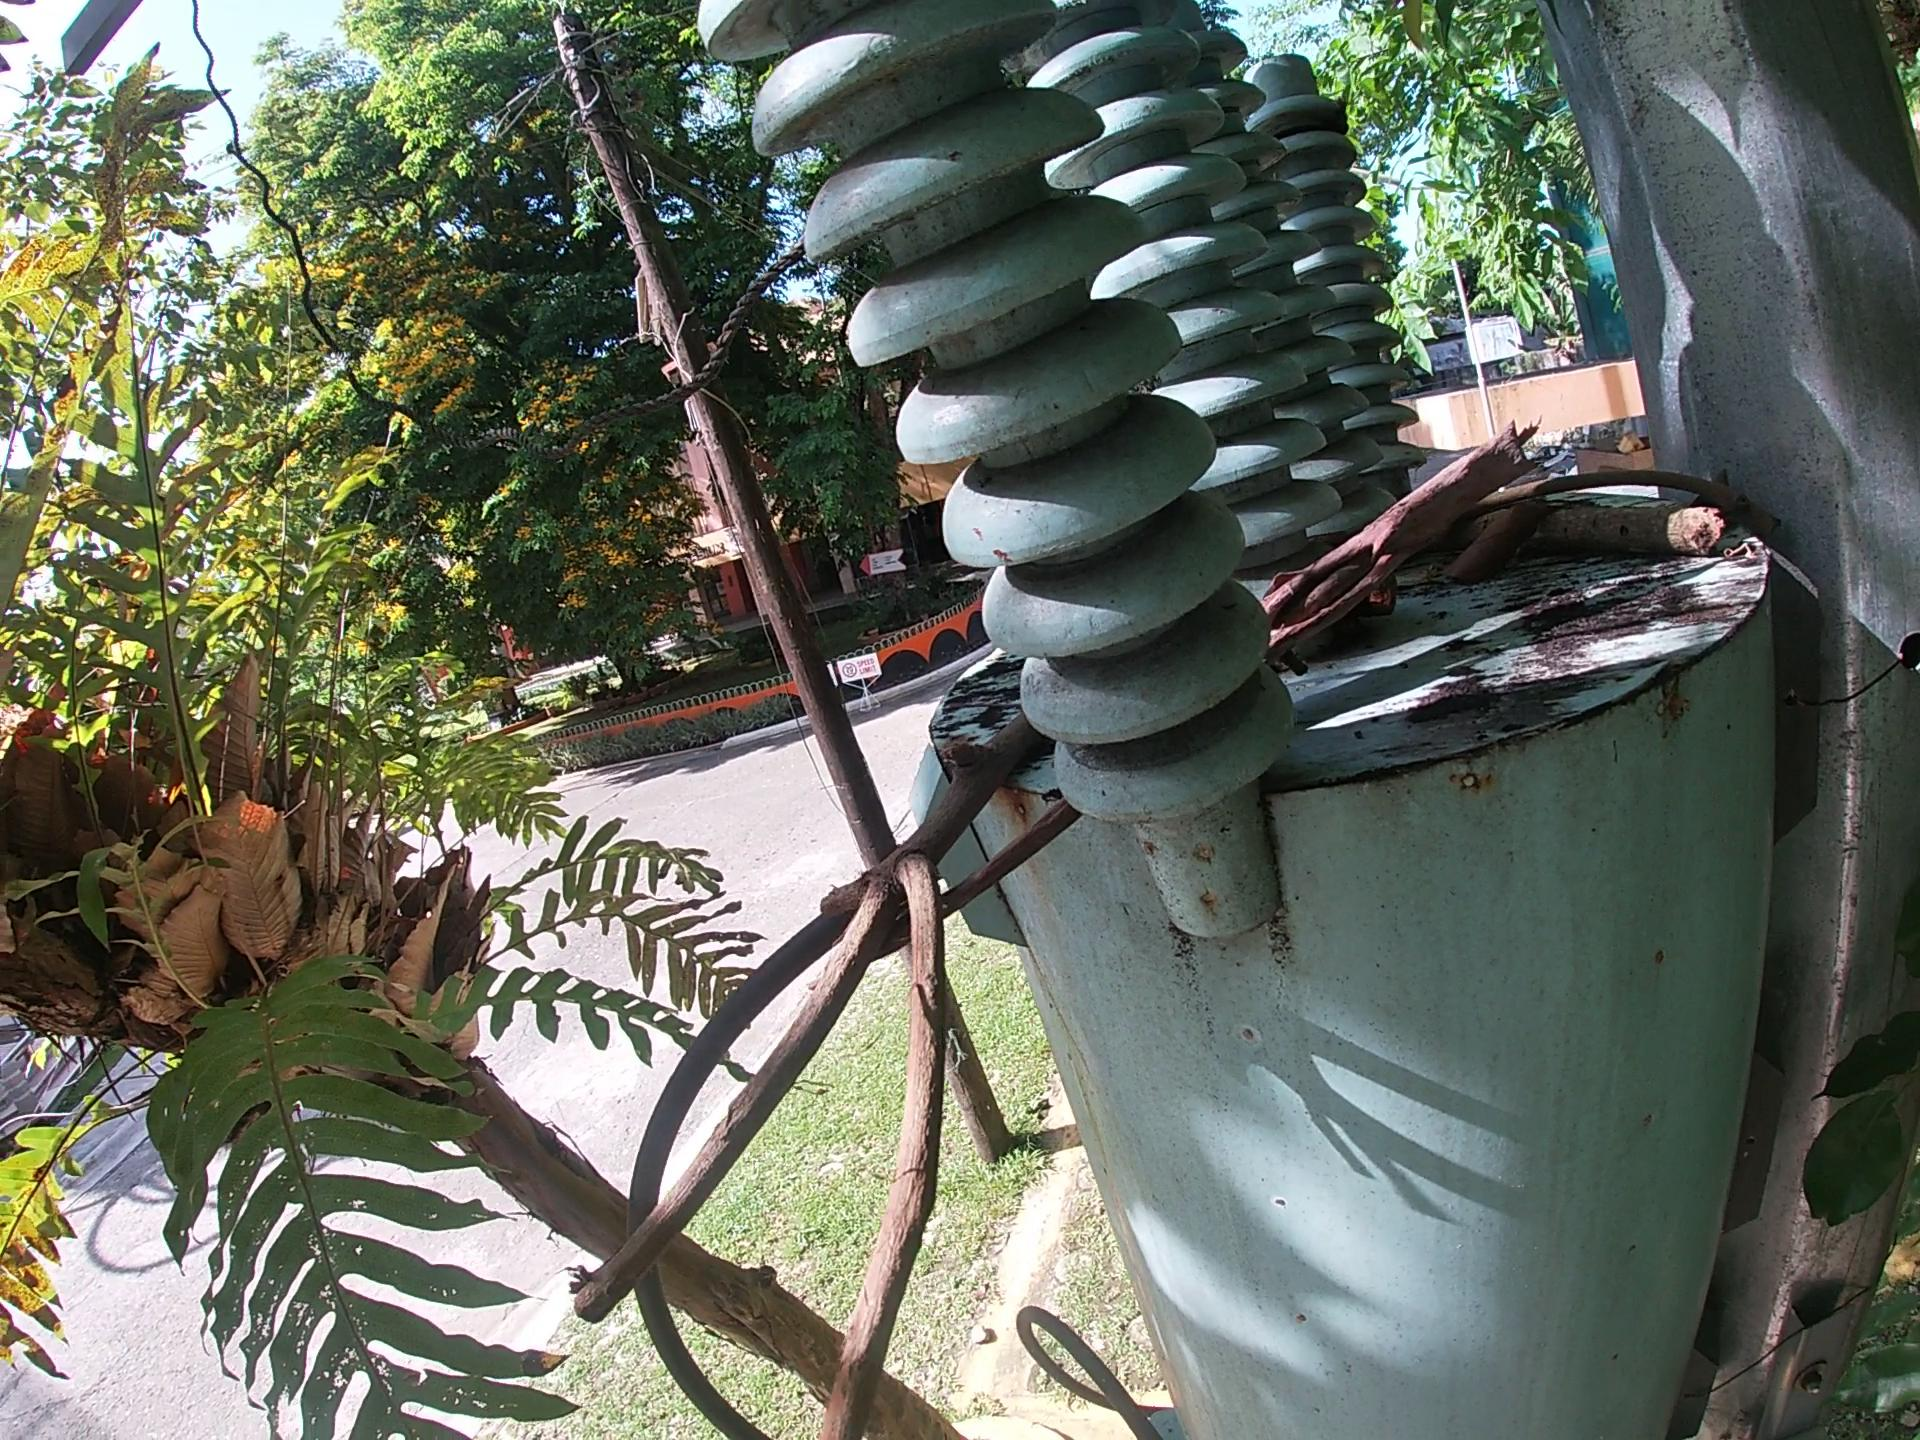leaf: (1435, 495, 1562, 591)
tree branch: (547, 712, 1051, 1440), (1252, 411, 1551, 669), (872, 796, 1081, 956), (1492, 461, 1788, 538), (1457, 492, 1733, 561)
